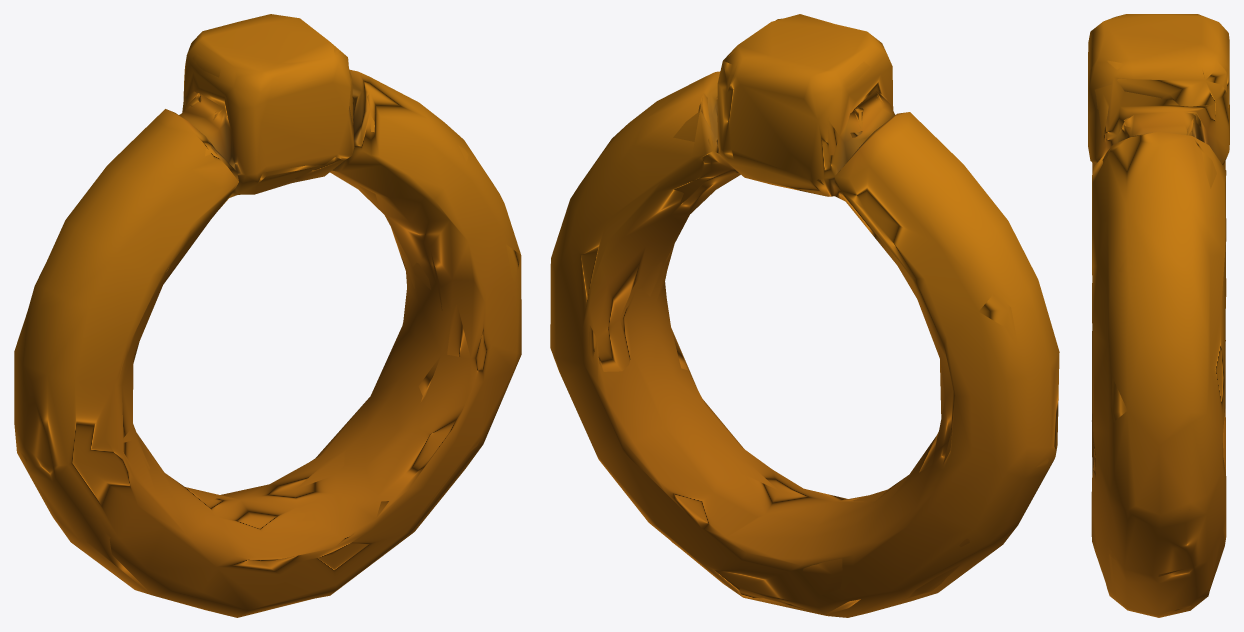
File: gen3d-golden-ring-lod0.glb
3 renders of one model, left to right at view 1: azimuth 30°, elevation 25°; view 2: azimuth 150°, elevation 25°; view 3: azimuth 270°, elevation 25°, orthographic.
Visible parts, largest first — view 1: part_0; view 2: part_0; view 3: part_0.
Part boxes in pixels (x1=…): part_0: x1=14, y1=14, x2=521, y2=617; part_0: x1=550, y1=14, x2=1059, y2=617; part_0: x1=1088, y1=14, x2=1229, y2=617.
Bounding box in the file's own units: 0.9161 × 0.9996 × 0.2308.
